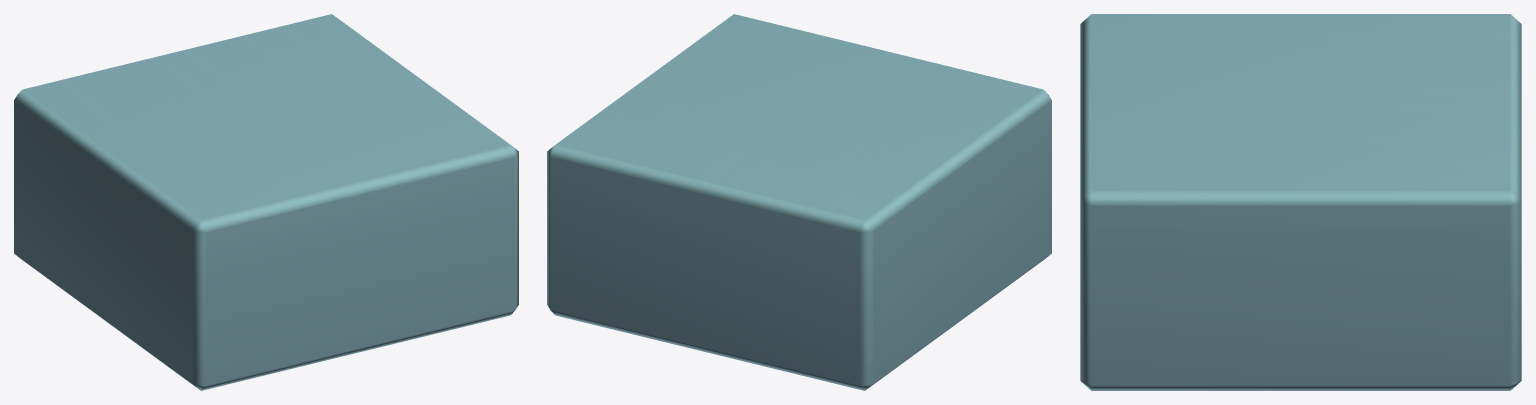
The model's file is cube_06_hue_2.fbx.
3 views of the same model, side by side, from view 1: azimuth 30°, elevation 25°; view 2: azimuth 150°, elevation 25°; view 3: azimuth 270°, elevation 25° (orthographic). The views are drawn at different scales.
Visible parts, largest first — view 1: cube_06_hue_2; view 2: cube_06_hue_2; view 3: cube_06_hue_2.
Boxes of the visible parts, box(x1,y1,x2,y2) form: cube_06_hue_2: box(14, 14, 518, 390); cube_06_hue_2: box(547, 14, 1051, 390); cube_06_hue_2: box(1080, 14, 1521, 390).
Bounding box in the file's own units: 200 × 100 × 200.
1 material, 1 textured.
